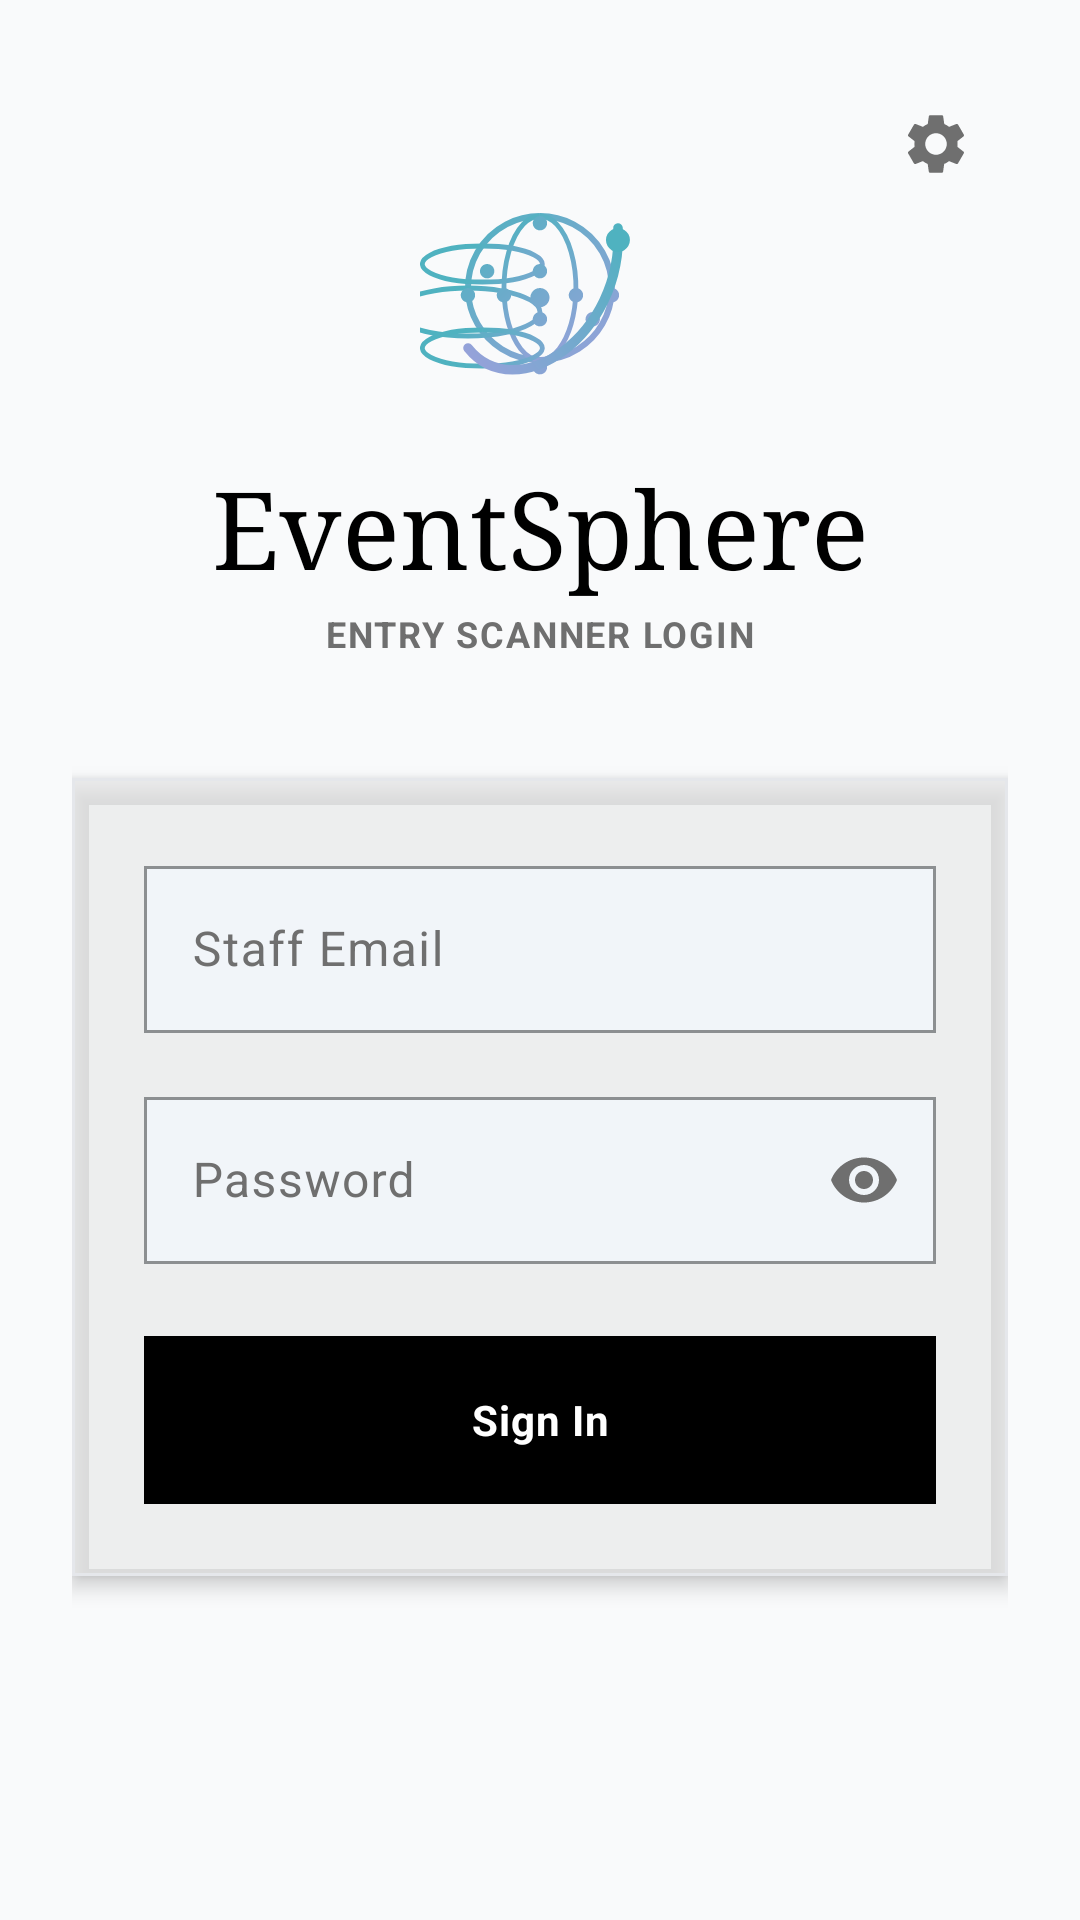

Icons on this 1080 × 1920 Android screen, each with the point to tap as point (x, y):
Settings: point (936, 144)
